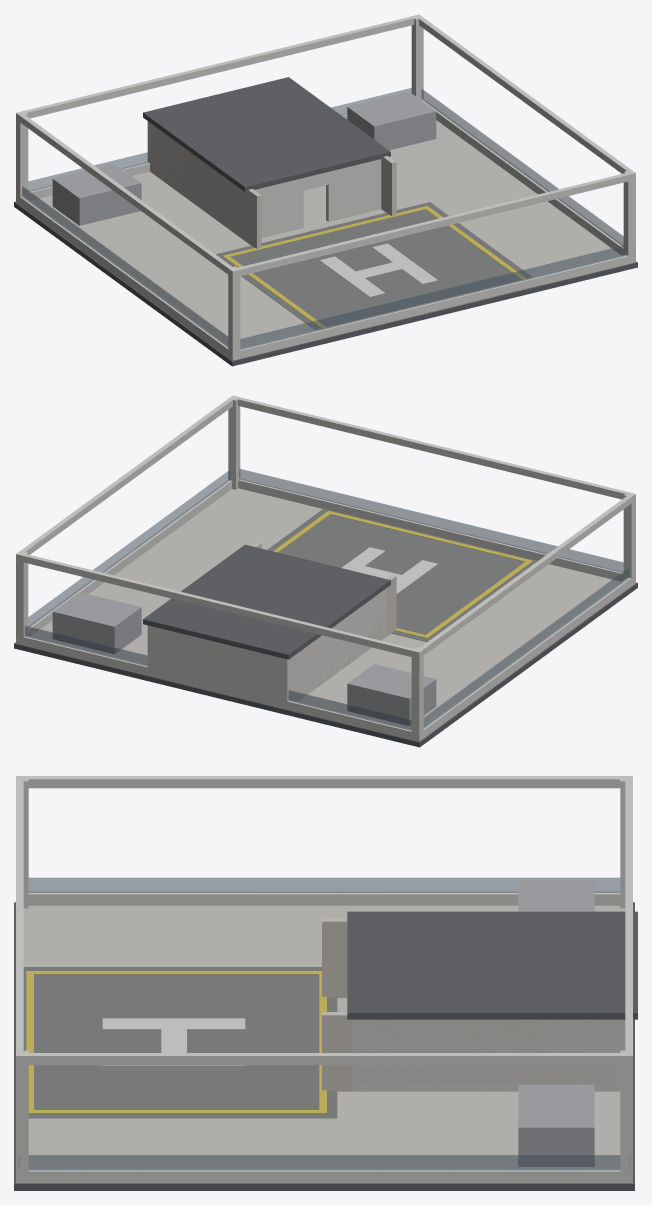
Rendered from condo-roof-a.skyline-v3.lod0.glb.
3 views of the same model, one above another, from view 1: azimuth 30°, elevation 25°; view 2: azimuth 150°, elevation 25°; view 3: azimuth 270°, elevation 25° (orthographic). The views are drawn at different scales.
Visible parts, largest first — view 1: condo-roof-a; view 2: condo-roof-a; view 3: condo-roof-a.
Part boxes in pixels (box(x1,y1,x2,y2)): condo-roof-a: box(14, 14, 637, 366); condo-roof-a: box(14, 395, 637, 747); condo-roof-a: box(14, 776, 637, 1190).
Size of the model in its own units: 26.16 by 5.8 by 24.48.
